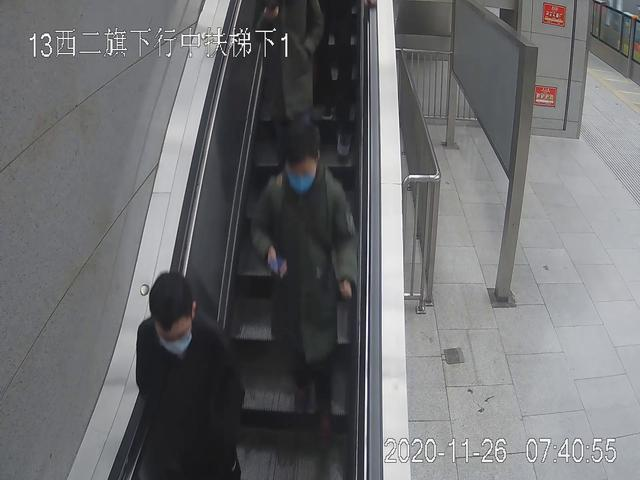person: (252, 129, 357, 452), (135, 272, 246, 480)
